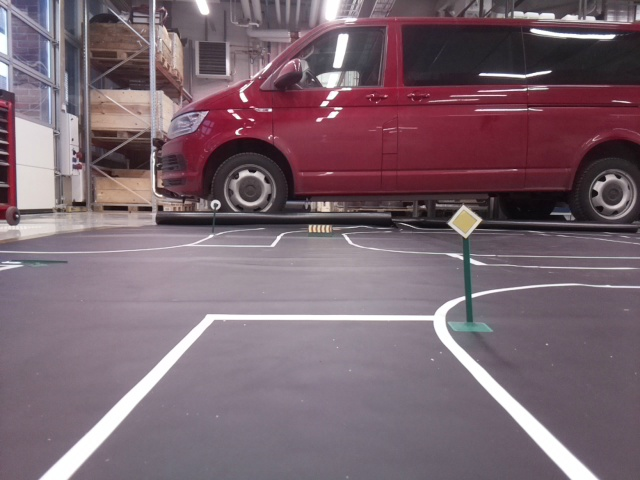Priority: (444, 204, 481, 236)
